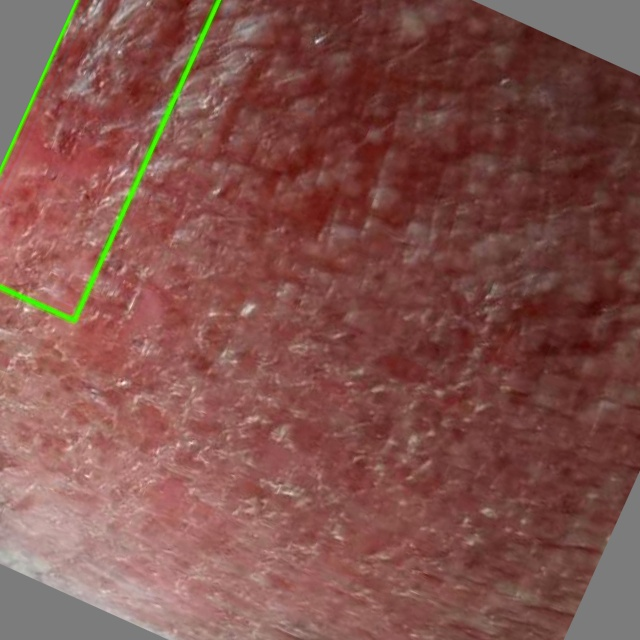Seborrheic Dermatitis: (0, 0, 220, 320)
